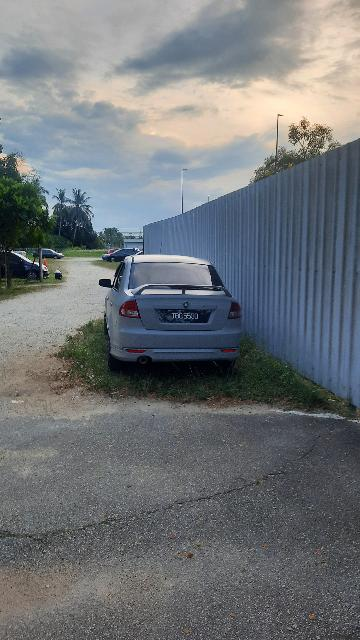License_Plate: (155, 304, 214, 326)
car: (98, 252, 247, 380)
